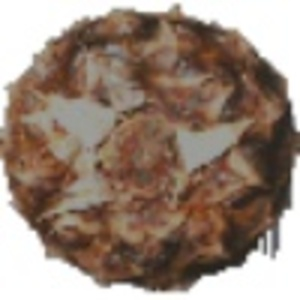abacaxi: (4, 6, 292, 287)
